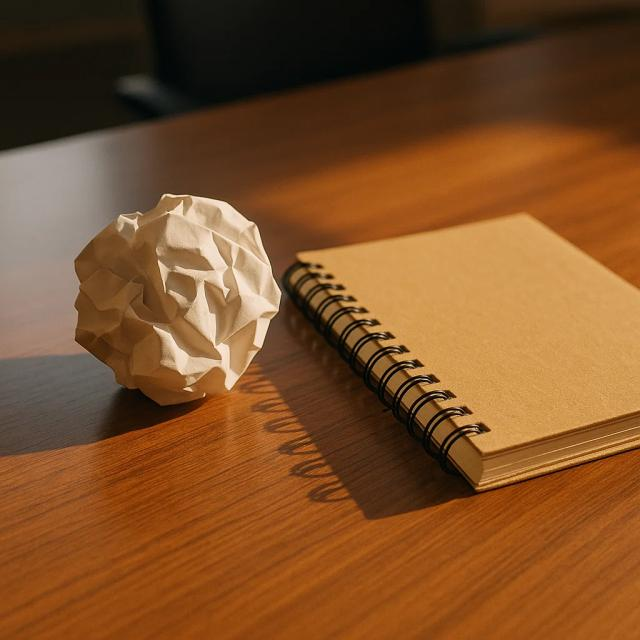paper: (62, 188, 284, 409)
